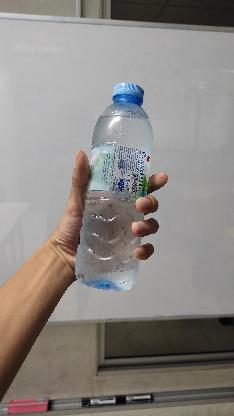Plastic Bottle: (72, 80, 158, 294)
